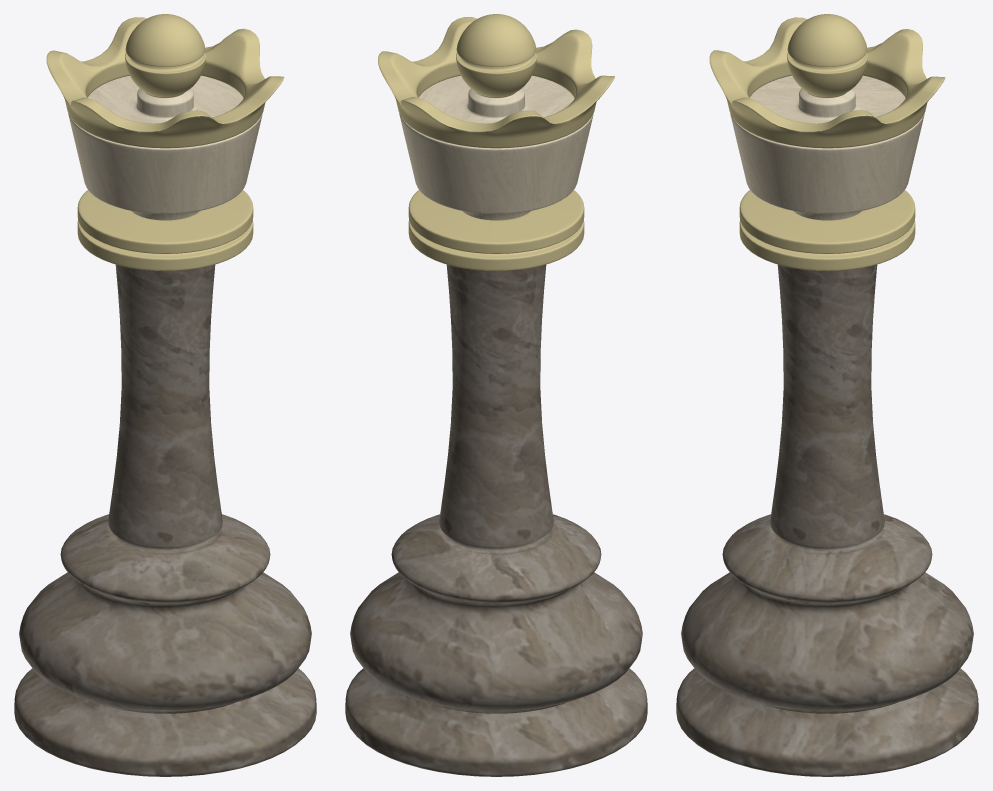
File: W_Queen.glb
3 renders of one model, left to right at view 1: azimuth 30°, elevation 25°; view 2: azimuth 150°, elevation 25°; view 3: azimuth 270°, elevation 25°, orthographic.
Visible parts, largest first — view 1: Queen_W; view 2: Queen_W; view 3: Queen_W.
Boxes of the visible parts, bbox=[...] form: Queen_W: bbox=[14, 14, 316, 776]; Queen_W: bbox=[345, 14, 647, 776]; Queen_W: bbox=[676, 14, 978, 776].
Size of the model in its own units: 0.0533 by 0.1361 by 0.0533.
1 material, 1 textured.
